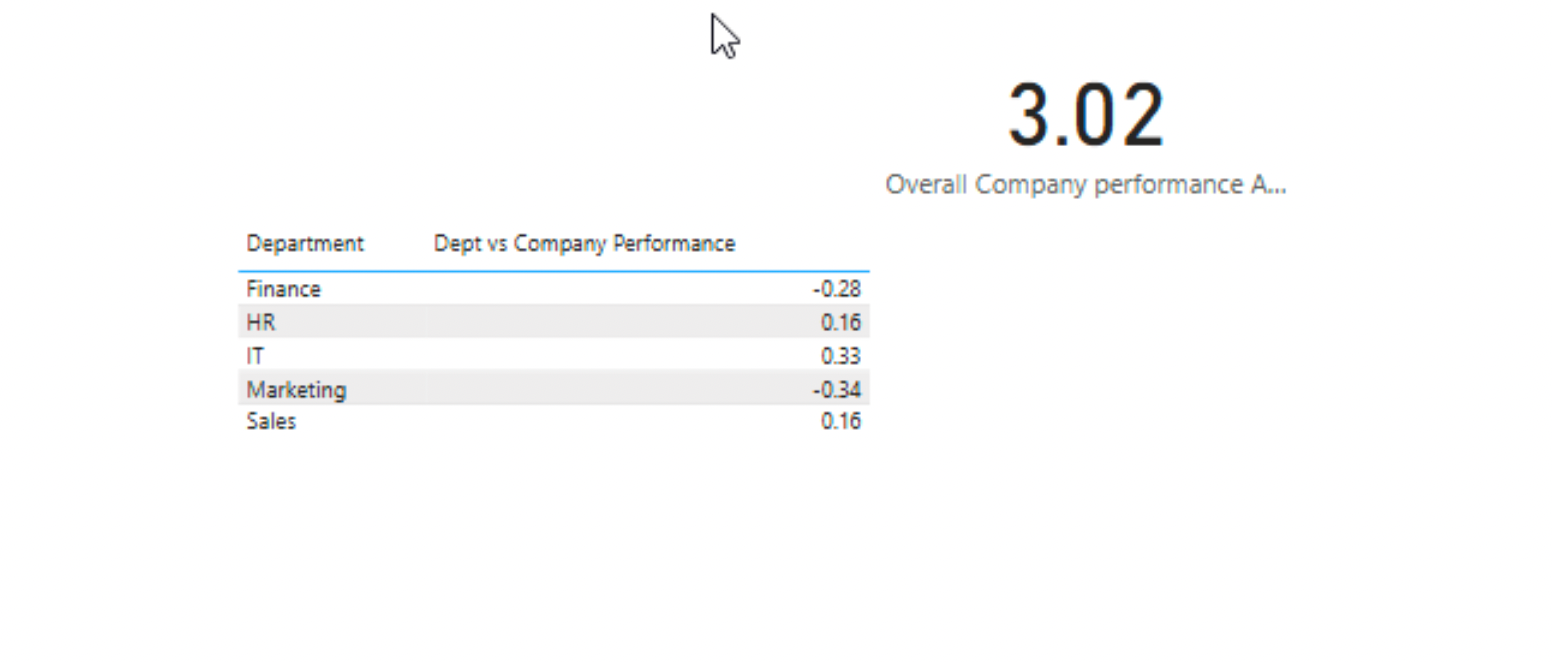

What the dashboard file says about the page in this screenshot:
{"tool":"powerbi","page":{"name":"Page 3","canvas":[1280,720],"ordinal":2},"visuals":[{"type":"tableEx","fields":{"Values":["EmployeeData.Department","Table.Dept vs Company Performance"]},"box":[446.1,139.5,392.1,221.1],"z":0},{"type":"card","fields":{"Values":["Table.Overall Company performance Avg"]},"box":[838.2,19.7,252.6,119.7],"z":1}]}

Visuals, with their boxes on the page's 1280x720 design canvas (x1, y1, x2, y2). These are canvas units, not pixel positions in the 1552x662 screenshot, which may show the page scaled, cropped or inside an application window:
tableEx - EmployeeData.Department x Table.Dept vs Company Performance: x1=446, y1=140, x2=838, y2=361
card - Table.Overall Company performance Avg: x1=838, y1=20, x2=1091, y2=139
